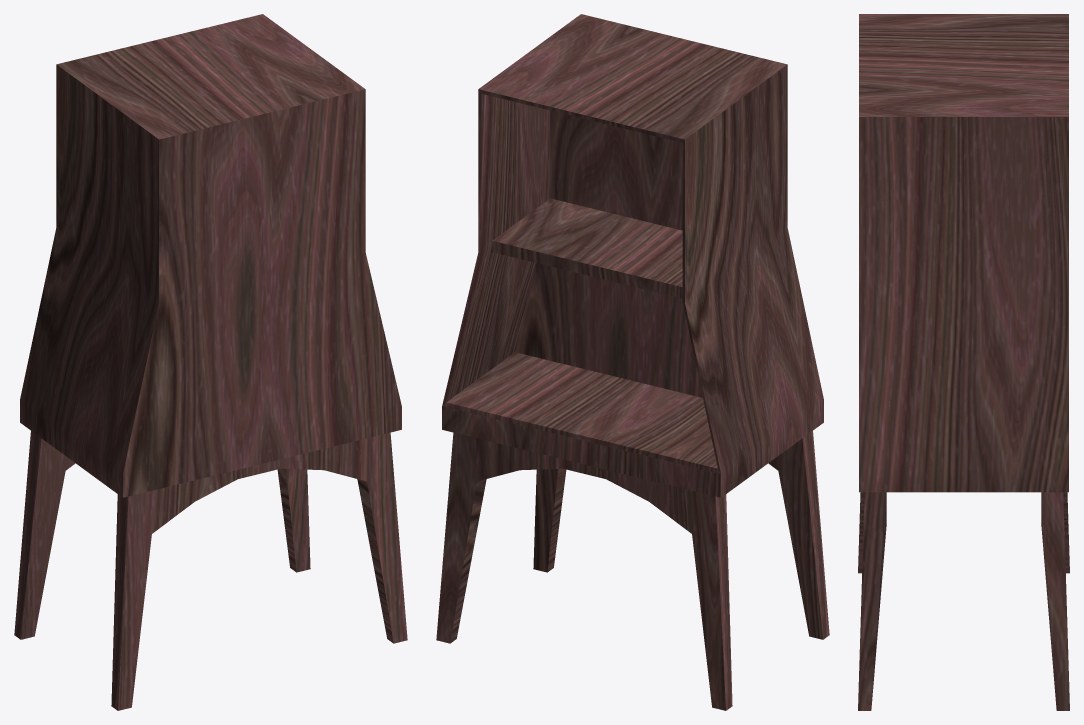
The model's file is Small_bookshelf.fbx.
3 views of the same model, side by side, from view 1: azimuth 30°, elevation 25°; view 2: azimuth 150°, elevation 25°; view 3: azimuth 270°, elevation 25° (orthographic). The views are drawn at different scales.
Visible parts, largest first — view 1: Small_bookshelf; view 2: Small_bookshelf; view 3: Small_bookshelf.
Part boxes in pixels (bbox=[...]): Small_bookshelf: bbox=[14, 14, 407, 710]; Small_bookshelf: bbox=[436, 14, 829, 710]; Small_bookshelf: bbox=[858, 14, 1069, 710].
Bounding box in the file's own units: 0.3101 × 0.5736 × 0.192.
Materials: 1 (1 with a texture image).
